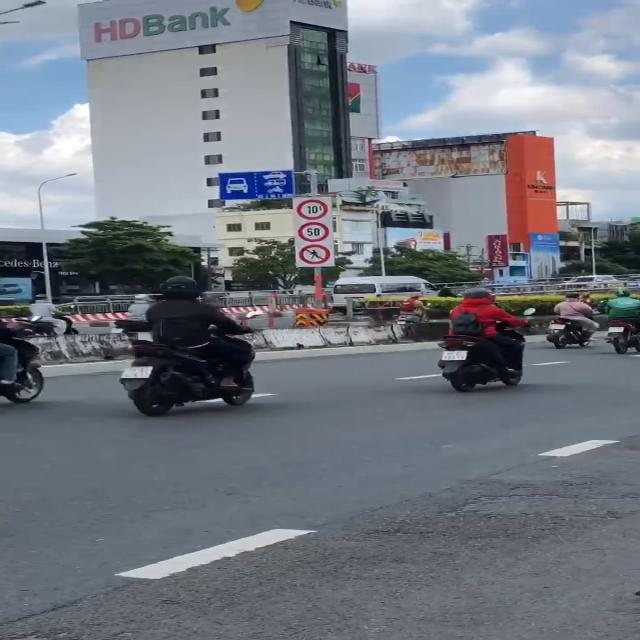Bien bao cam nguoi di bo: (296, 243, 338, 267)
Bien bao toc do toi da cho phep: (298, 221, 332, 243)
